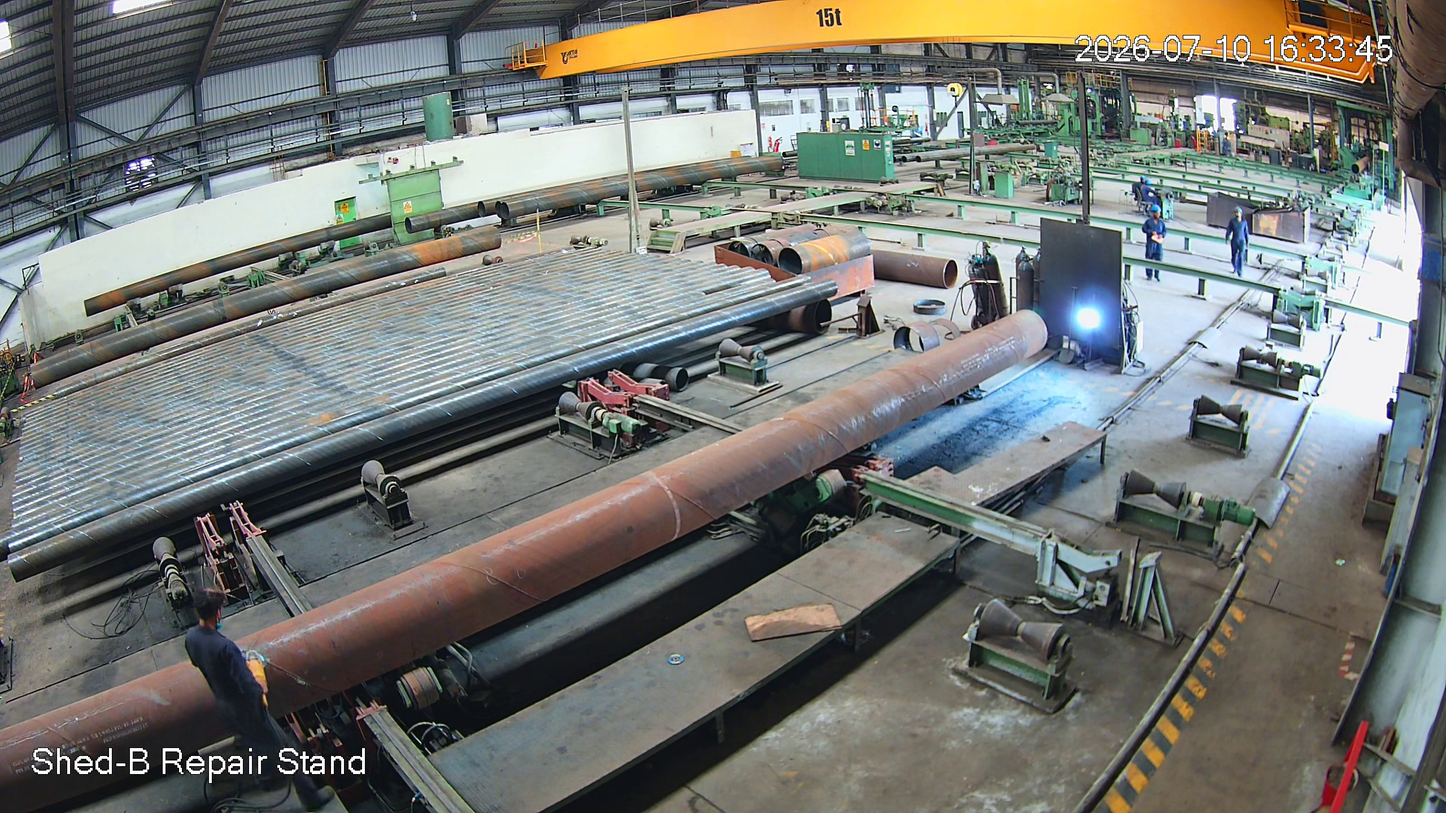Helmet: (1148, 203, 1167, 224), (1231, 206, 1247, 223)
Person: (175, 594, 338, 813), (1224, 208, 1255, 282), (1145, 204, 1166, 282)
